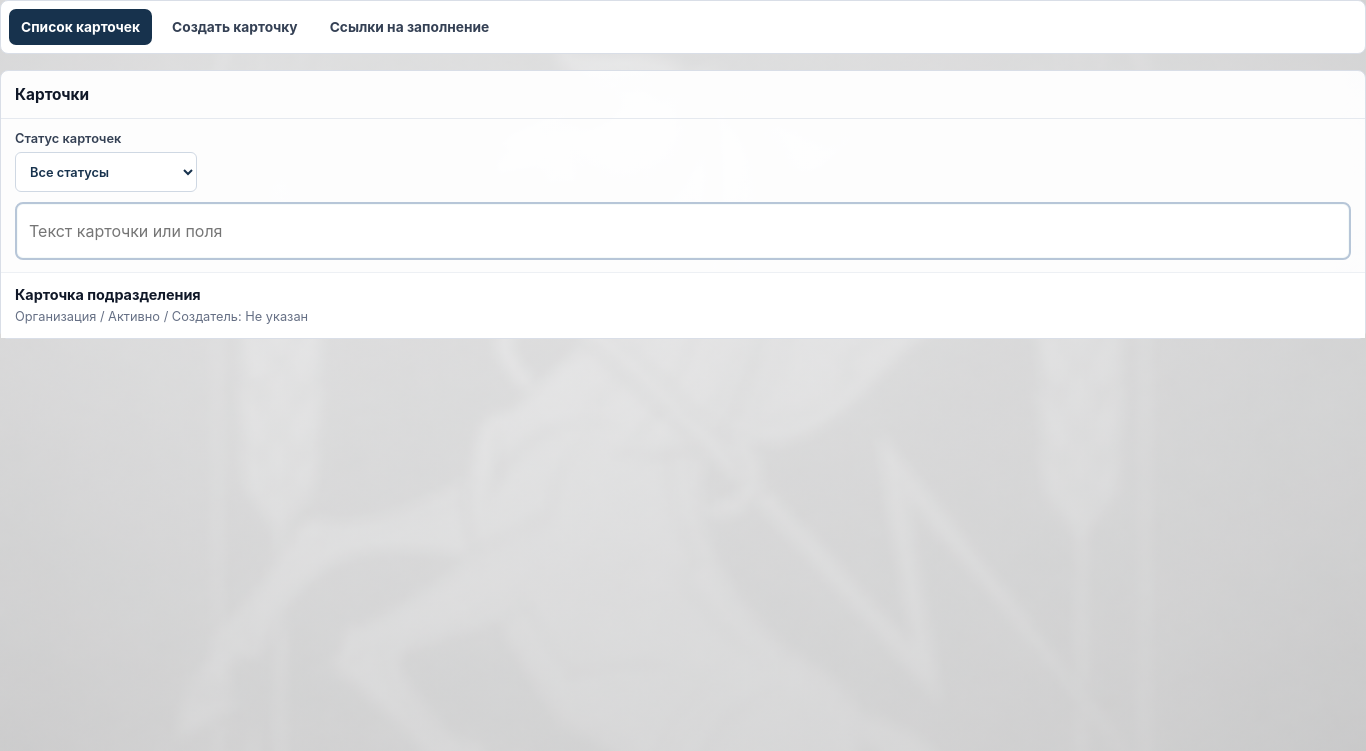
Test case: CardsWorkspace › non-superuser has no archive action even when card management is allowed
Double-click the button "Карточка подразделения" at (108, 294), box [1,273,1365,338]
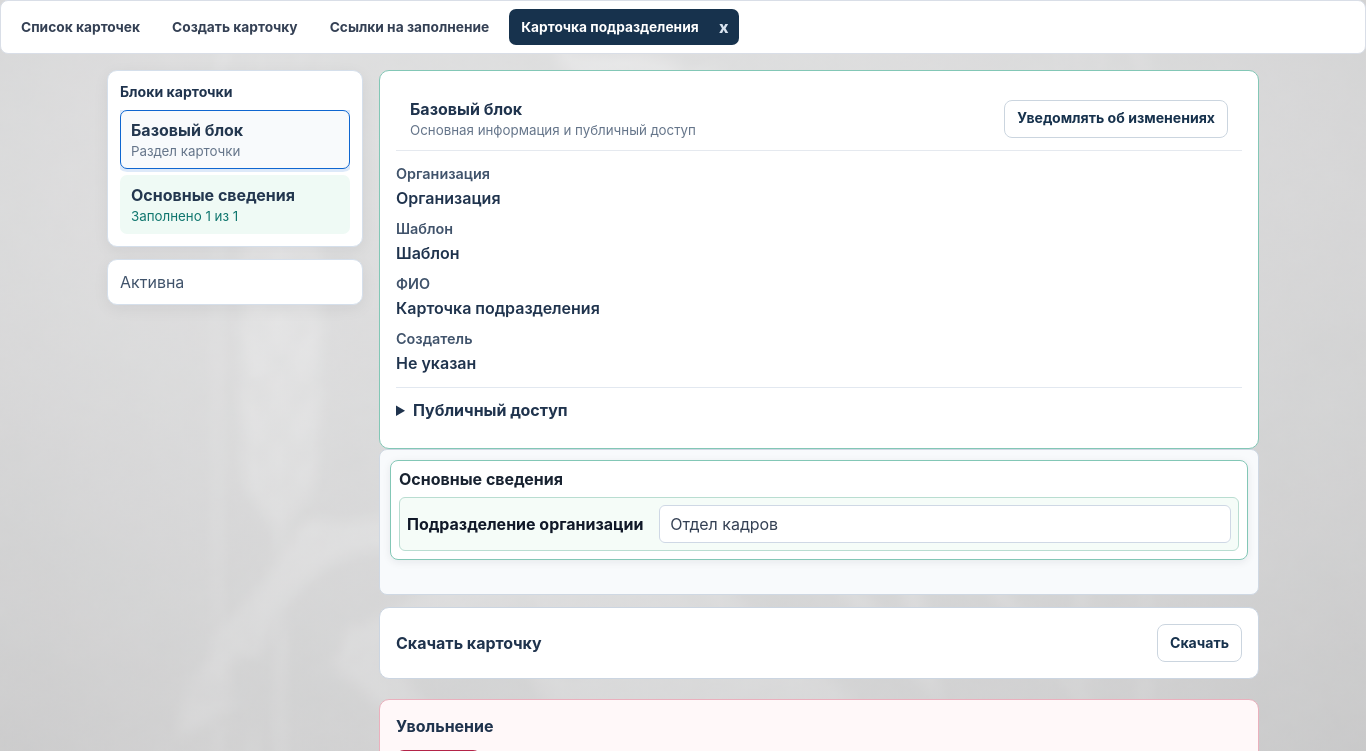
Expected: the element with test id "filled-field-item-org-unit" is shown, [399,497,1239,551]
